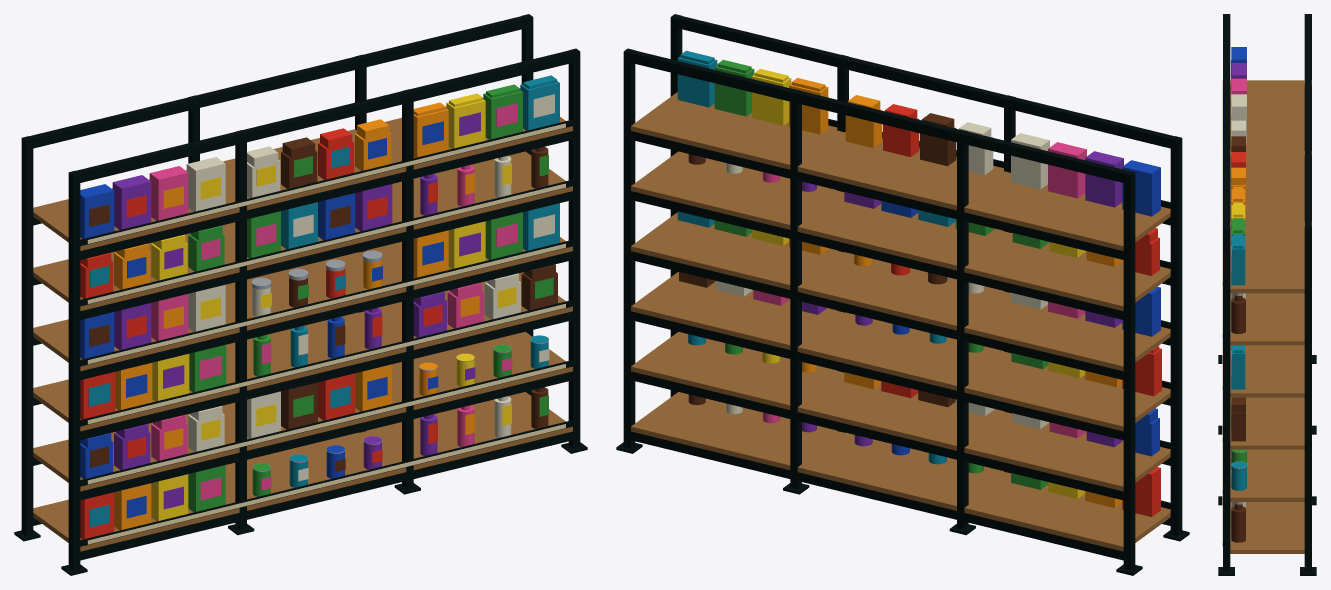
3 views of the same model, side by side, from view 1: azimuth 30°, elevation 25°; view 2: azimuth 150°, elevation 25°; view 3: azimuth 270°, elevation 25° (orthographic). The views are drawn at different scales.
Visible parts, largest first — view 1: /Asset/Links/rack/Visuals/shelf_board_0/Geom, /Asset/Links/rack/Visuals/shelf_board_1/Geom, /Asset/Links/rack/Visuals/shelf_board_2/Geom, /Asset/Links/rack/Visuals/shelf_board_4/Geom, /Asset/Links/rack/Visuals/shelf_board_3/Geom, /Asset/Links/rack/Visuals/top_rear_rail/Geom, /Asset/Links/rack/Visuals/top_front_rail/Geom, /Asset/Links/rack/Visuals/front_post_0/Geom, /Asset/Links/rack/Visuals/rear_post_0/Geom, /Asset/Links/rack/Visuals/shelf_board_5/Geom, /Asset/Links/rack/Visuals/front_post_3/Geom, /Asset/Links/rack/Visuals/front_support_0/Geom (+68 smaller); view 2: /Asset/Links/rack/Visuals/shelf_board_0/Geom, /Asset/Links/rack/Visuals/shelf_board_2/Geom, /Asset/Links/rack/Visuals/shelf_board_4/Geom, /Asset/Links/rack/Visuals/shelf_board_1/Geom, /Asset/Links/rack/Visuals/shelf_board_3/Geom, /Asset/Links/rack/Visuals/shelf_board_5/Geom, /Asset/Links/rack/Visuals/top_front_rail/Geom, /Asset/Links/rack/Visuals/top_rear_rail/Geom, /Asset/Links/rack/Visuals/front_post_0/Geom, /Asset/Links/rack/Visuals/rear_post_0/Geom, /Asset/Links/rack/Visuals/rear_post_3/Geom, /Asset/Links/rack/Visuals/rear_support_0/Geom (+24 smaller); view 3: /Asset/Links/rack/Visuals/shelf_board_5/Geom, /Asset/Links/rack/Visuals/shelf_board_4/Geom, /Asset/Links/rack/Visuals/shelf_board_3/Geom, /Asset/Links/rack/Visuals/shelf_board_1/Geom, /Asset/Links/rack/Visuals/shelf_board_2/Geom, /Asset/Links/rack/Visuals/shelf_board_0/Geom, /Asset/Links/rack/Visuals/front_post_3/Geom, /Asset/Links/rack/Visuals/rear_post_3/Geom, /Asset/Links/rack/Visuals/top_front_rail/Geom, /Asset/Links/rack/Visuals/top_rear_rail/Geom, /Asset/Links/bag_r6_b3_s4/Visuals/bag_r6_b3_s4_body/Geom, /Asset/Links/bag_r4_b3_s4/Visuals/bag_r4_b3_s4_body/Geom (+19 smaller).
Boxes of the visible parts, box(x1,y1,x2,y2) form: /Asset/Links/rack/Visuals/shelf_board_0/Geom: box(33, 392, 572, 551); /Asset/Links/rack/Visuals/shelf_board_1/Geom: box(33, 331, 572, 491); /Asset/Links/rack/Visuals/shelf_board_2/Geom: box(33, 272, 572, 431); /Asset/Links/rack/Visuals/shelf_board_4/Geom: box(33, 151, 572, 310); /Asset/Links/rack/Visuals/shelf_board_3/Geom: box(33, 237, 572, 371); /Asset/Links/rack/Visuals/top_rear_rail/Geom: box(25, 15, 528, 148); /Asset/Links/rack/Visuals/top_front_rail/Geom: box(73, 49, 575, 182); /Asset/Links/rack/Visuals/front_post_0/Geom: box(68, 170, 80, 570); /Asset/Links/rack/Visuals/rear_post_0/Geom: box(21, 136, 33, 535); /Asset/Links/rack/Visuals/shelf_board_5/Geom: box(33, 98, 572, 250); /Asset/Links/rack/Visuals/front_post_3/Geom: box(568, 48, 580, 448); /Asset/Links/rack/Visuals/front_support_0/Geom: box(80, 431, 572, 560); /Asset/Links/rack/Visuals/shelf_board_0/Geom: box(631, 392, 1170, 551); /Asset/Links/rack/Visuals/shelf_board_2/Geom: box(631, 271, 1170, 431); /Asset/Links/rack/Visuals/shelf_board_4/Geom: box(631, 151, 1170, 310); /Asset/Links/rack/Visuals/shelf_board_1/Geom: box(631, 331, 1170, 491); /Asset/Links/rack/Visuals/shelf_board_3/Geom: box(631, 212, 1170, 371); /Asset/Links/rack/Visuals/shelf_board_5/Geom: box(631, 92, 1170, 250); /Asset/Links/rack/Visuals/top_front_rail/Geom: box(675, 15, 1178, 148); /Asset/Links/rack/Visuals/top_rear_rail/Geom: box(628, 49, 1130, 182); /Asset/Links/rack/Visuals/front_post_0/Geom: box(1170, 136, 1182, 535); /Asset/Links/rack/Visuals/rear_post_0/Geom: box(1123, 170, 1135, 570); /Asset/Links/rack/Visuals/rear_post_3/Geom: box(623, 48, 635, 448); /Asset/Links/rack/Visuals/rear_support_0/Geom: box(631, 431, 1123, 560); /Asset/Links/rack/Visuals/shelf_board_5/Geom: box(1230, 80, 1311, 293); /Asset/Links/rack/Visuals/shelf_board_4/Geom: box(1230, 293, 1304, 345); /Asset/Links/rack/Visuals/shelf_board_3/Geom: box(1230, 345, 1304, 397); /Asset/Links/rack/Visuals/shelf_board_1/Geom: box(1230, 449, 1304, 501); /Asset/Links/rack/Visuals/shelf_board_2/Geom: box(1230, 397, 1304, 449); /Asset/Links/rack/Visuals/shelf_board_0/Geom: box(1230, 502, 1304, 553); /Asset/Links/rack/Visuals/front_post_3/Geom: box(1223, 226, 1230, 571); /Asset/Links/rack/Visuals/rear_post_3/Geom: box(1304, 226, 1311, 571); /Asset/Links/rack/Visuals/top_front_rail/Geom: box(1223, 15, 1229, 227); /Asset/Links/rack/Visuals/top_rear_rail/Geom: box(1305, 15, 1311, 227); /Asset/Links/bag_r6_b3_s4/Visuals/bag_r6_b3_s4_body/Geom: box(1231, 236, 1245, 285); /Asset/Links/bag_r4_b3_s4/Visuals/bag_r4_b3_s4_body/Geom: box(1231, 345, 1245, 389).
Bounding box in the file's own units: 2.79 × 2.05 × 0.53.
